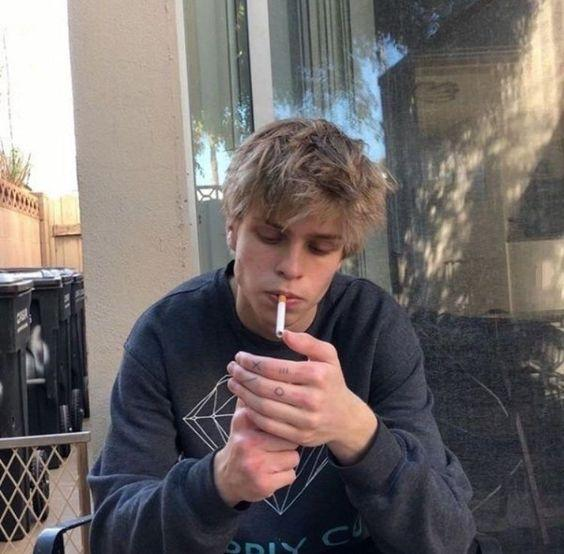cigarette: (276, 295, 286, 338)
